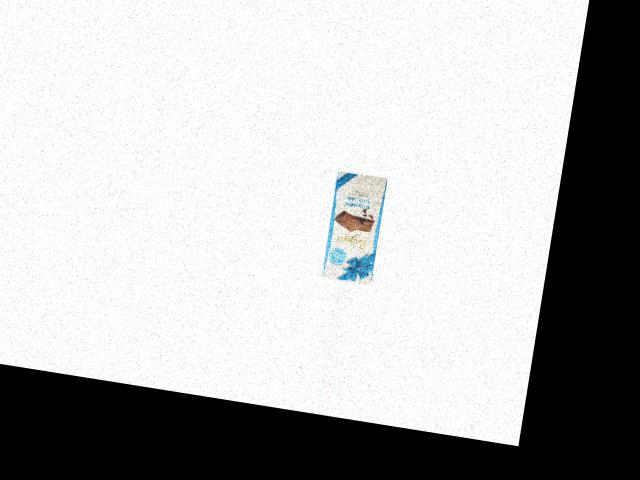chocolate: (316, 167, 395, 287)
